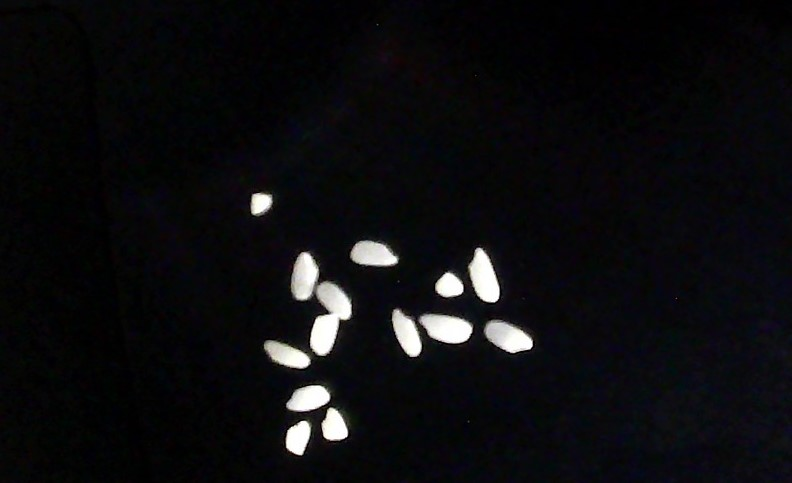broken_grain: (316, 407, 354, 444), (283, 415, 312, 455), (432, 268, 466, 299), (247, 187, 276, 220)
complete_grain: (464, 248, 507, 306), (482, 316, 537, 357), (284, 246, 319, 303), (261, 336, 312, 374), (349, 235, 401, 272), (419, 313, 477, 345), (389, 307, 424, 359), (315, 282, 359, 322), (282, 382, 332, 414), (309, 311, 342, 358)
